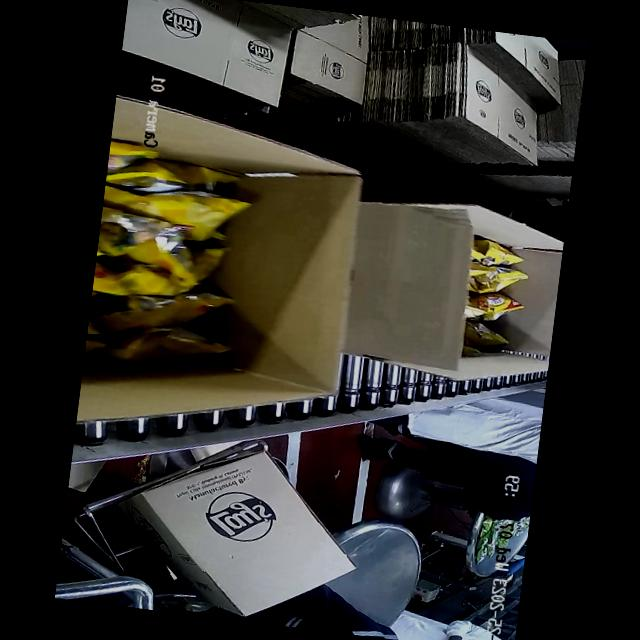salted: (85, 162, 262, 360), (454, 232, 532, 354)
